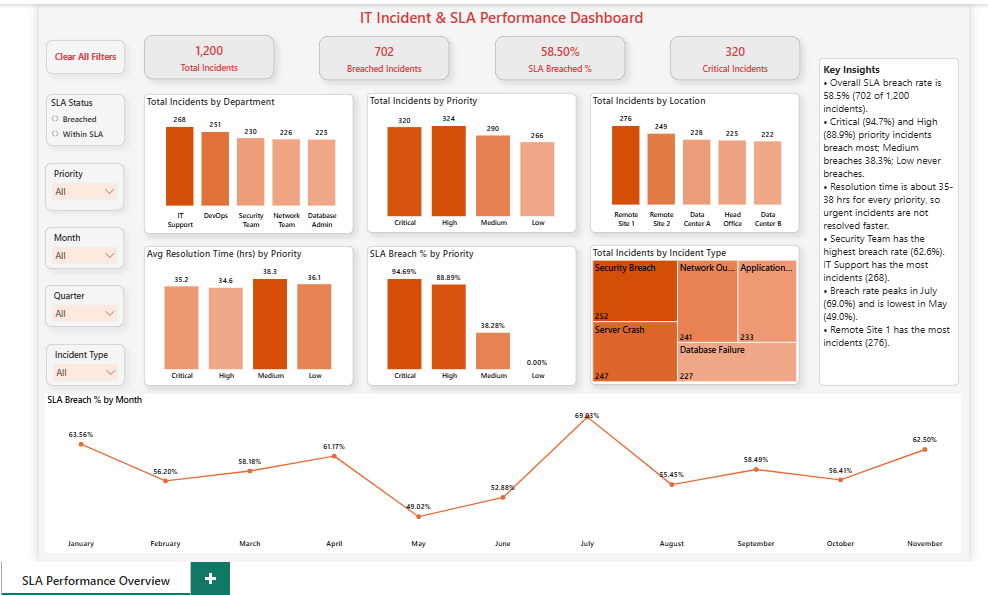

What the dashboard file says about the page in this screenshot:
{"tool":"powerbi","page":{"name":"SLA Performance Overview","canvas":[2000,1200],"ordinal":0},"visuals":[{"type":"textbox","box":[674.2,0,651.7,61.7],"z":0},{"type":"columnChart","title":"Total Incidents by Department","fields":{"Category":["Dim_Department.Assigned Department"],"Y":["it_incident_dataset.Total Incidents"]},"box":[226.5,192.8,450,300],"z":1000},{"type":"columnChart","fields":{"Category":["Dim_Priority.Priority"],"Y":["it_incident_dataset.Total Incidents"]},"box":[706,191.4,450,300],"z":2000},{"type":"card","fields":{"Values":["it_incident_dataset.Total Incidents"]},"box":[226.5,67.5,280,95],"z":3000},{"type":"card","fields":{"Values":["it_incident_dataset.SLA Breach %"]},"box":[979.9,69.3,280,95],"z":4000},{"type":"card","fields":{"Values":["it_incident_dataset.Breached Incidents"]},"box":[603.2,69.3,280,95],"z":5000},{"type":"card","fields":{"Values":["it_incident_dataset.Critical Incidents"]},"box":[1356.6,69.9,280,95],"z":6000},{"type":"columnChart","fields":{"Category":["Dim_Location.Location"],"Y":["it_incident_dataset.Total Incidents"]},"box":[1185.5,190.4,450,300],"z":7000},{"type":"columnChart","title":"Avg Resolution Time (hrs) by Priority","fields":{"Category":["Dim_Priority.Priority"],"Y":["it_incident_dataset.Avg_Resolution_time"]},"box":[226.5,520.5,450,300],"z":8000},{"type":"columnChart","title":"SLA Breach % by Priority","fields":{"Category":["Dim_Priority.Priority"],"Y":["it_incident_dataset.SLA Breach"]},"box":[706,520.4,450,300],"z":9000},{"type":"treemap","fields":{"Group":["Dim_IncidentType.Incident Type"],"Values":["it_incident_dataset.Total Incidents"]},"box":[1185.5,518.1,450,300],"z":10000},{"type":"slicer","fields":{"Values":["Dim_Priority.Priority"]},"box":[12.9,341.2,170,101.6],"z":11000},{"type":"slicer","fields":{"Values":["Calender.Month Name"]},"box":[12.9,478.6,170,90],"z":12000},{"type":"slicer","fields":{"Values":["Calender Table.Quarter"]},"box":[12.9,604.3,170,90],"z":13000},{"type":"slicer","fields":{"Values":["Dim_IncidentType.Incident Type"]},"box":[14.5,730.1,170,90],"z":14000},{"type":"actionButton","box":[15.1,77.4,169.9,73.1],"z":15000},{"type":"listSlicer","fields":{"Values":["Fact_incident_dataset.SLA Status"]},"box":[15.1,193.5,169.9,111.8],"z":16000},{"type":"textbox","box":[1677.1,115.7,301.2,703.6],"z":17000},{"type":"lineChart","title":"SLA Breach % by Month","fields":{"Category":["Calender Table.Month Name"],"Y":["Measures Table.SLA Breach %"]},"box":[12.9,838.7,1970,341.9],"z":18000}]}

Visuals, with their boxes on the page's 2000x1200 design canvas (x1, y1, x2, y2). These are canvas units, not pixel positions in the 988x595 screenshot, which may show the page scaled, cropped or inside an application window:
textbox: crop(674, 0, 1326, 62)
"Total Incidents by Department" columnChart: crop(226, 193, 676, 493)
columnChart - Dim_Priority.Priority x it_incident_dataset.Total Incidents: crop(706, 191, 1156, 491)
card - it_incident_dataset.Total Incidents: crop(226, 68, 506, 162)
card - it_incident_dataset.SLA Breach %: crop(980, 69, 1260, 164)
card - it_incident_dataset.Breached Incidents: crop(603, 69, 883, 164)
card - it_incident_dataset.Critical Incidents: crop(1357, 70, 1637, 165)
columnChart - Dim_Location.Location x it_incident_dataset.Total Incidents: crop(1186, 190, 1636, 490)
"Avg Resolution Time (hrs) by Priority" columnChart: crop(226, 520, 676, 820)
"SLA Breach % by Priority" columnChart: crop(706, 520, 1156, 820)
treemap - Dim_IncidentType.Incident Type x it_incident_dataset.Total Incidents: crop(1186, 518, 1636, 818)
slicer - Dim_Priority.Priority: crop(13, 341, 183, 443)
slicer - Calender.Month Name: crop(13, 479, 183, 569)
slicer - Calender Table.Quarter: crop(13, 604, 183, 694)
slicer - Dim_IncidentType.Incident Type: crop(14, 730, 184, 820)
actionButton: crop(15, 77, 185, 150)
listSlicer - Fact_incident_dataset.SLA Status: crop(15, 194, 185, 305)
textbox: crop(1677, 116, 1978, 819)
"SLA Breach % by Month" lineChart: crop(13, 839, 1983, 1181)
